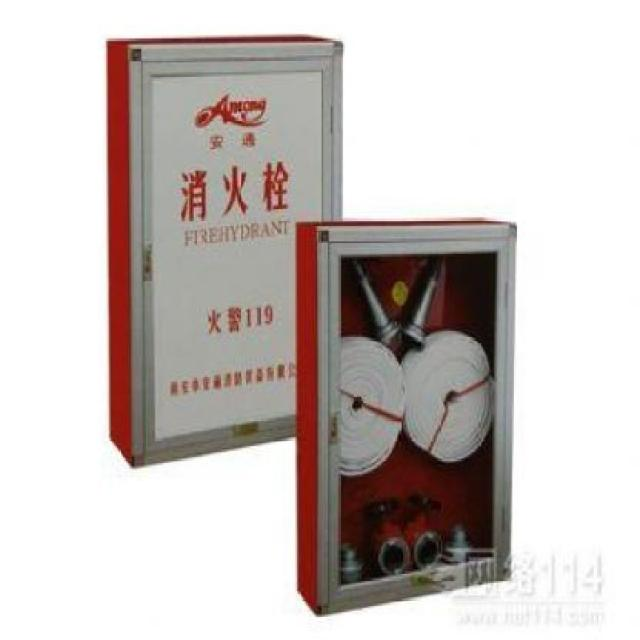firehydrant: (103, 29, 346, 473), (292, 212, 520, 625)
